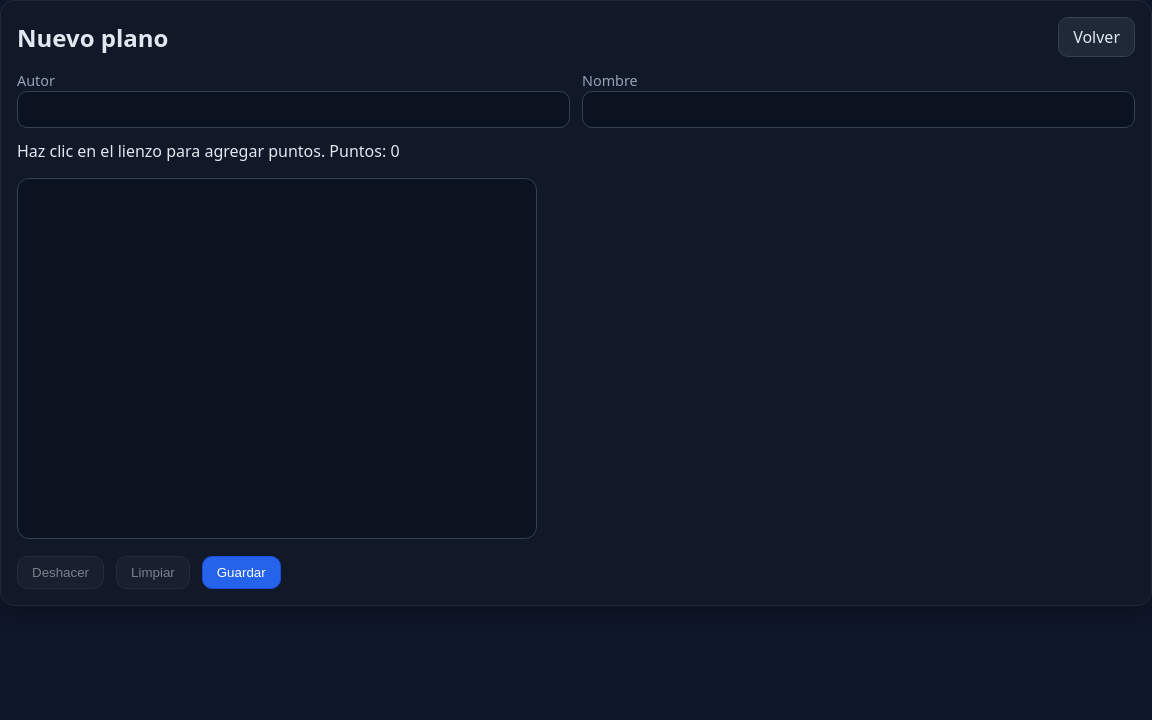
Test: Editor de planos › cada clic en el lienzo agrega un punto
The image size is (1152, 720).
Click the drawing with id "blueprint-editor" at (277, 358), box [17,178,537,539]
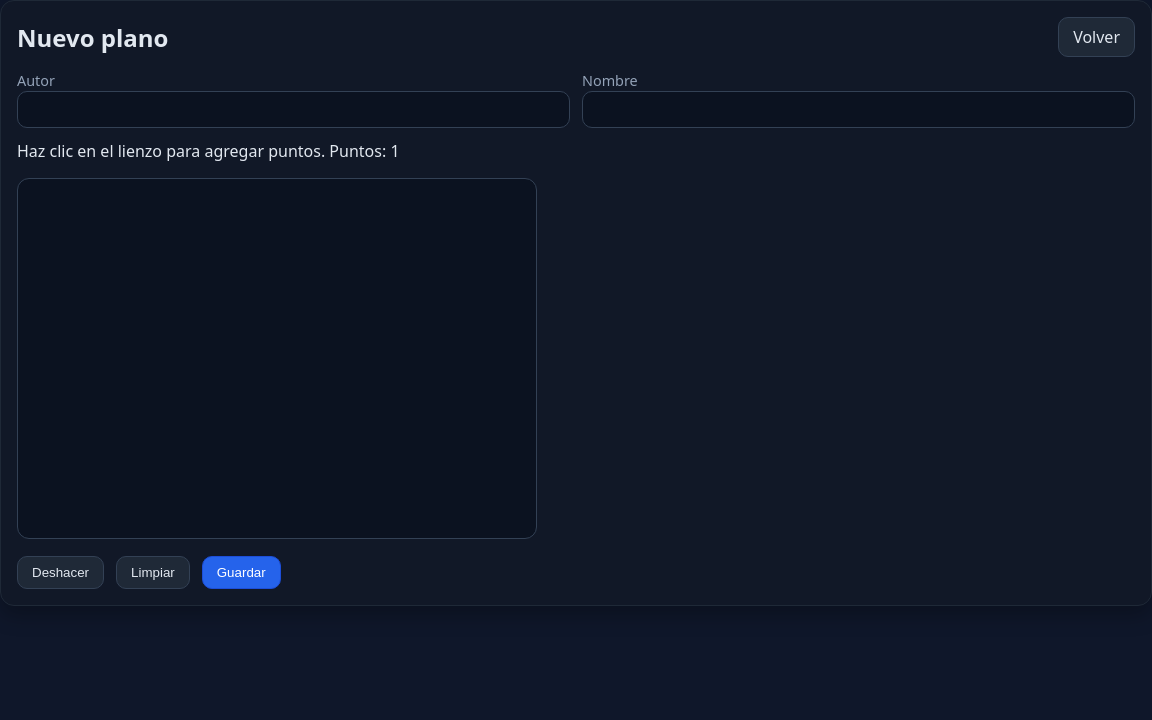
Click the drawing with id "blueprint-editor" at (277, 358), box [17,178,537,539]
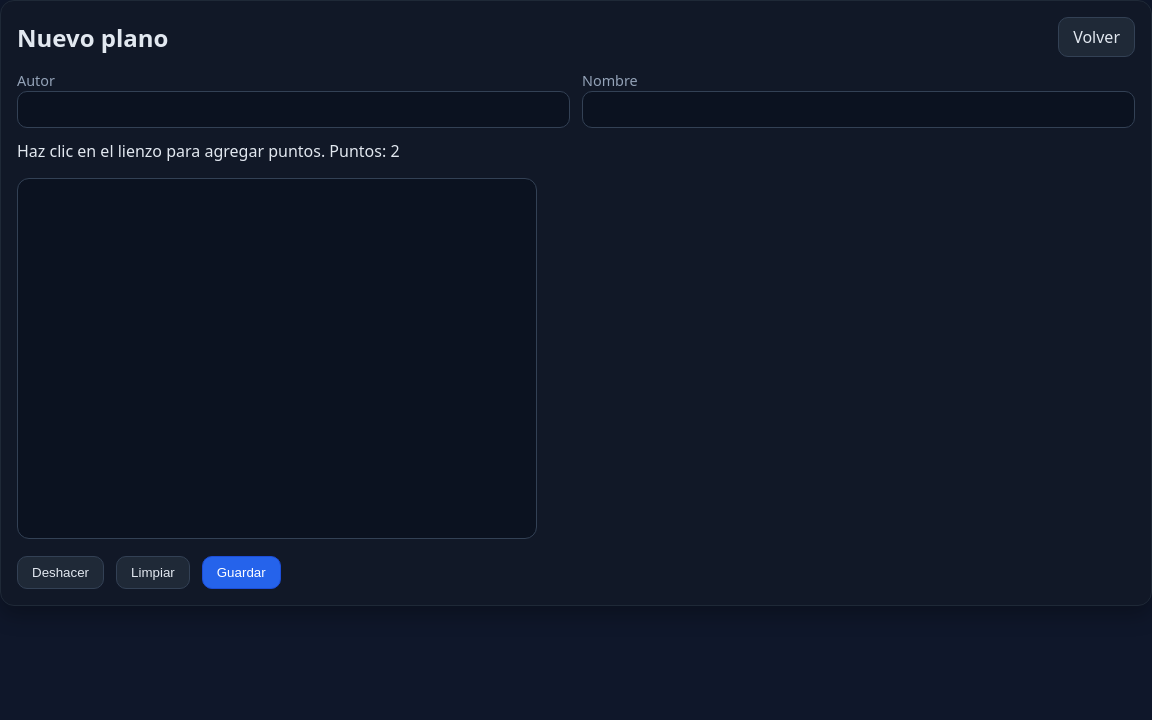
Check: the text "Haz clic en el lienzo para agregar puntos. Puntos: 2" is shown, box [17,140,400,162]
Click the button "Deshacer" at (60, 572), box [17,556,104,589]
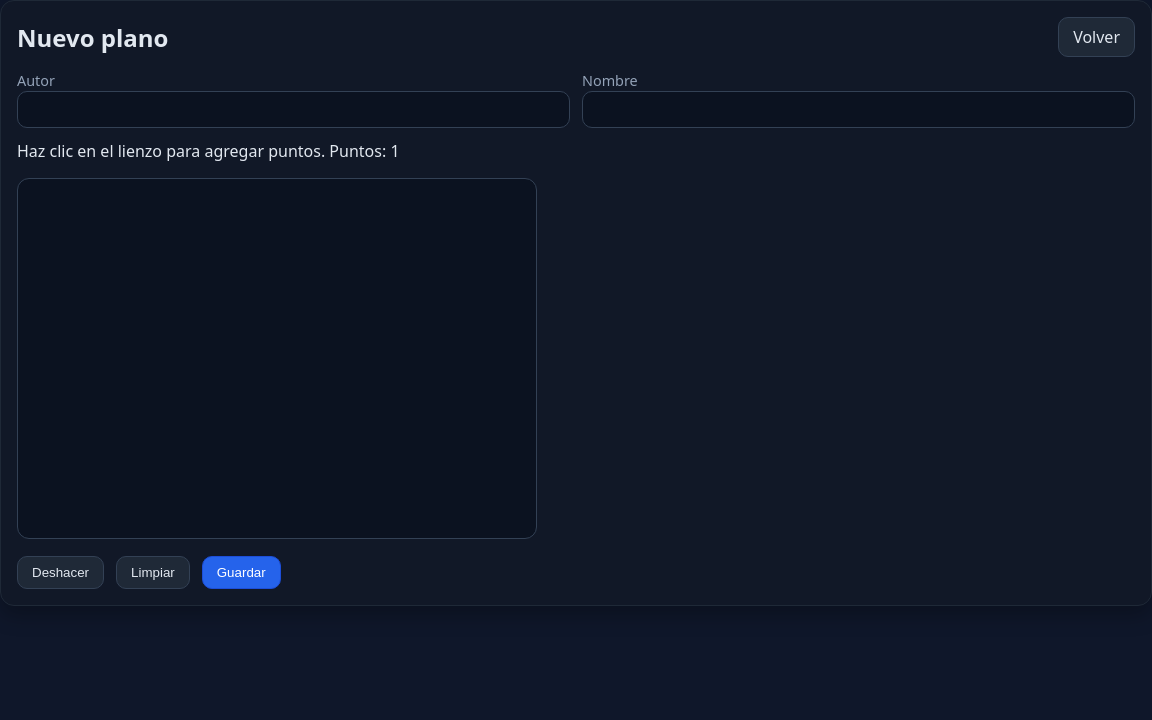
Check: the text "Haz clic en el lienzo para agregar puntos. Puntos: 1" is shown, box [17,140,400,162]
